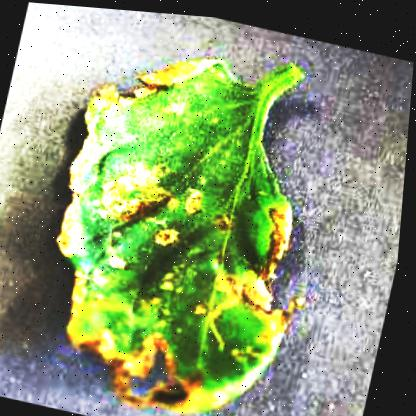BACTERIAL SPOT: (17, 15, 349, 415)
